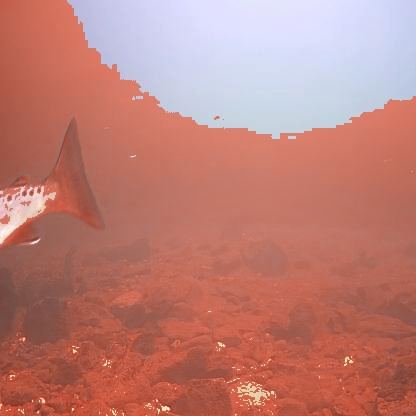salmon: (0, 114, 110, 254)
